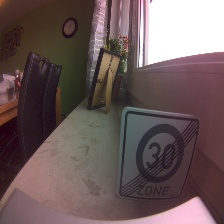dreisiger_zone_ende: (117, 106, 200, 203)
